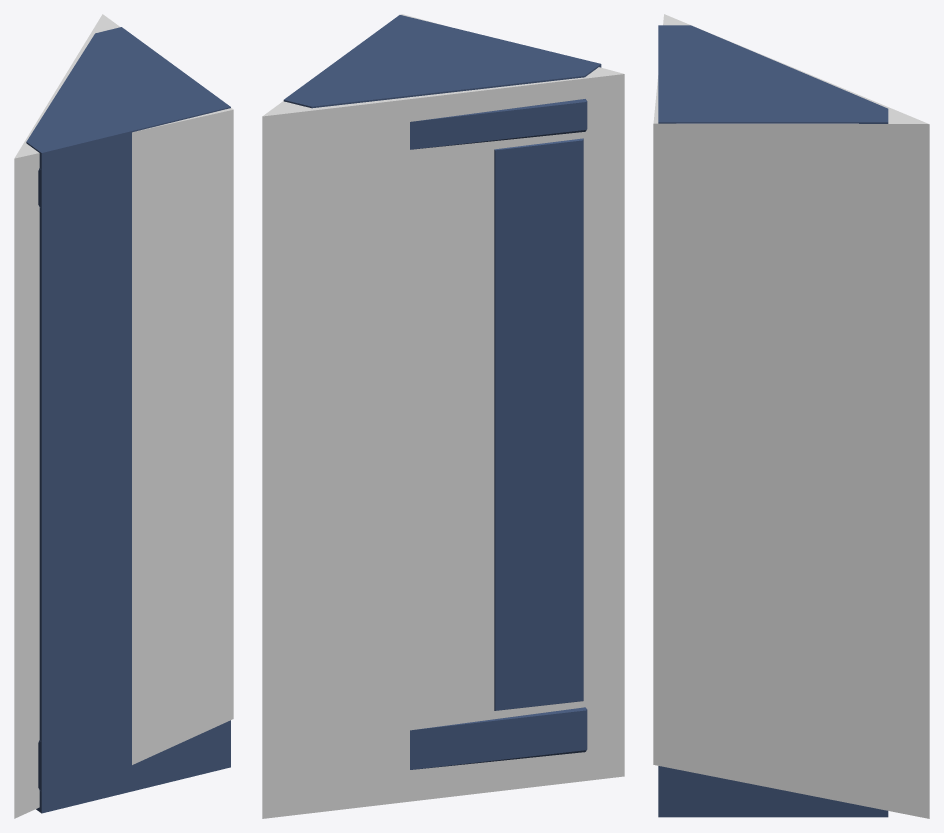
The model's file is SFM_Truss03_corner.FBX.
3 renders of one model, left to right at view 1: azimuth 30°, elevation 25°; view 2: azimuth 150°, elevation 25°; view 3: azimuth 270°, elevation 25°, orthographic. The views are drawn at different scales.
Visible parts, largest first — view 1: SFM_Truss03_c_Colider, SFM_Truss03_corner_LOD0; view 2: SFM_Truss03_c_Colider, SFM_Truss03_corner_LOD0; view 3: SFM_Truss03_c_Colider, SFM_Truss03_corner_LOD0.
Part boxes in pixels (box(x1,y1,x2,y2)): SFM_Truss03_c_Colider: box(14, 14, 233, 818); SFM_Truss03_corner_LOD0: box(26, 27, 230, 813); SFM_Truss03_c_Colider: box(262, 14, 624, 818); SFM_Truss03_corner_LOD0: box(283, 15, 601, 769); SFM_Truss03_c_Colider: box(653, 14, 929, 818); SFM_Truss03_corner_LOD0: box(658, 25, 888, 817).
Size of what is drawn, in the model's own units: 34 by 100 by 36.
